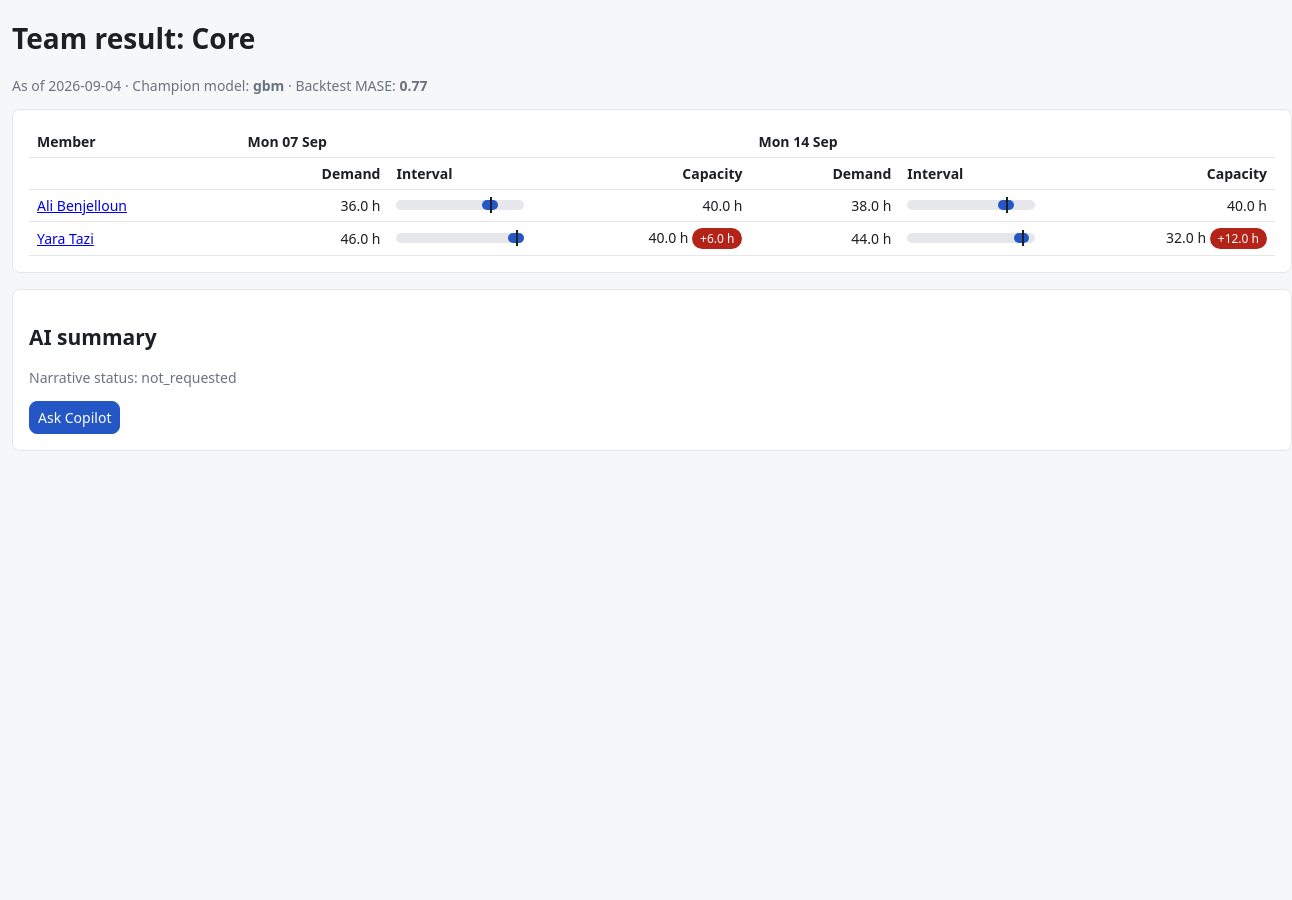
Test: TeamResult › offers to ask Copilot when there is no narrative and flags unverified ones
What coordinates should you click on to do the following:
click the button "Ask Copilot"
I would click on:
 (75, 418)
Its box is [29,401,120,434].
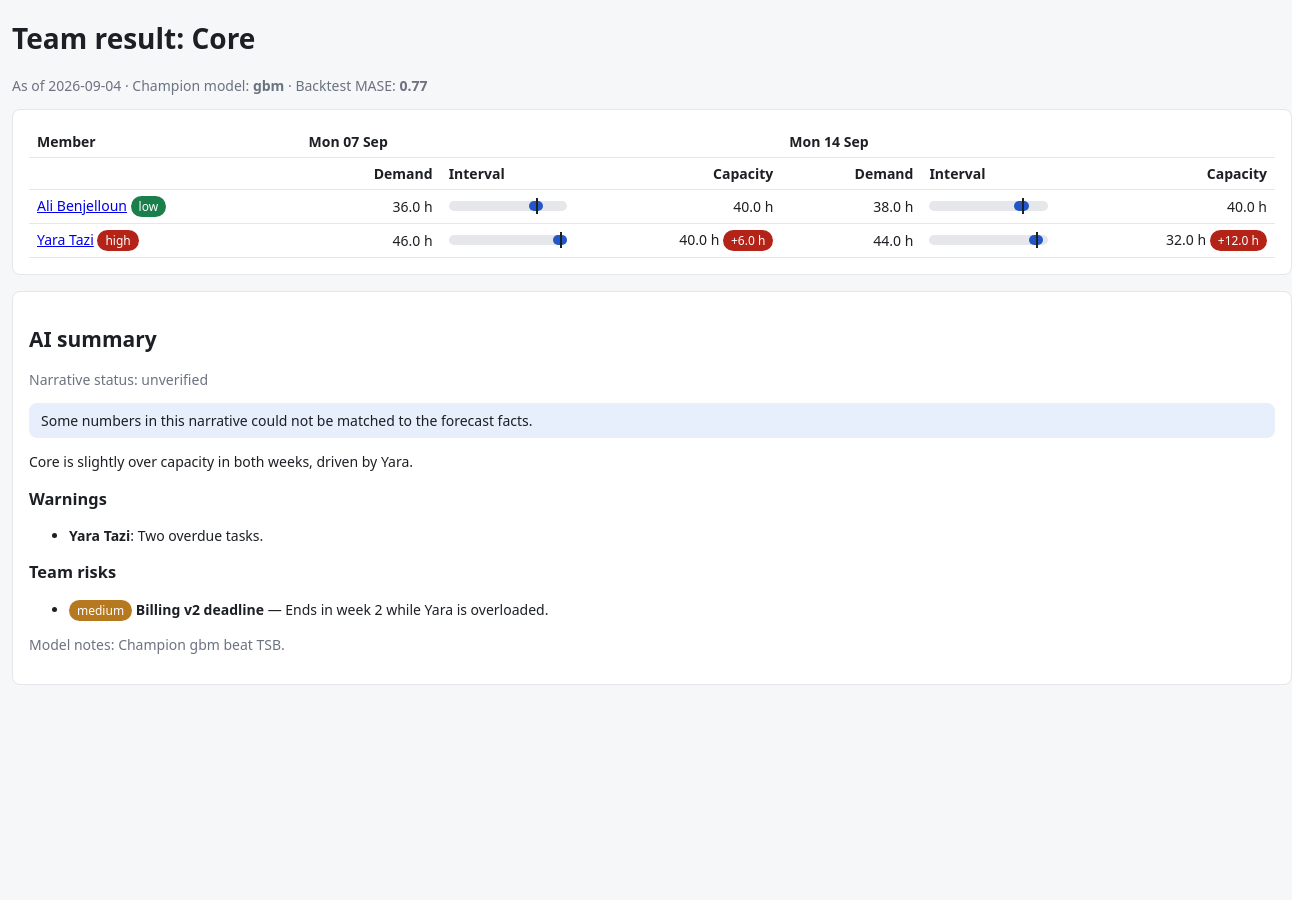
Expected: the text "Some numbers in this narrative could not be matched to the forecast facts." is shown, [29,403,1275,438]
